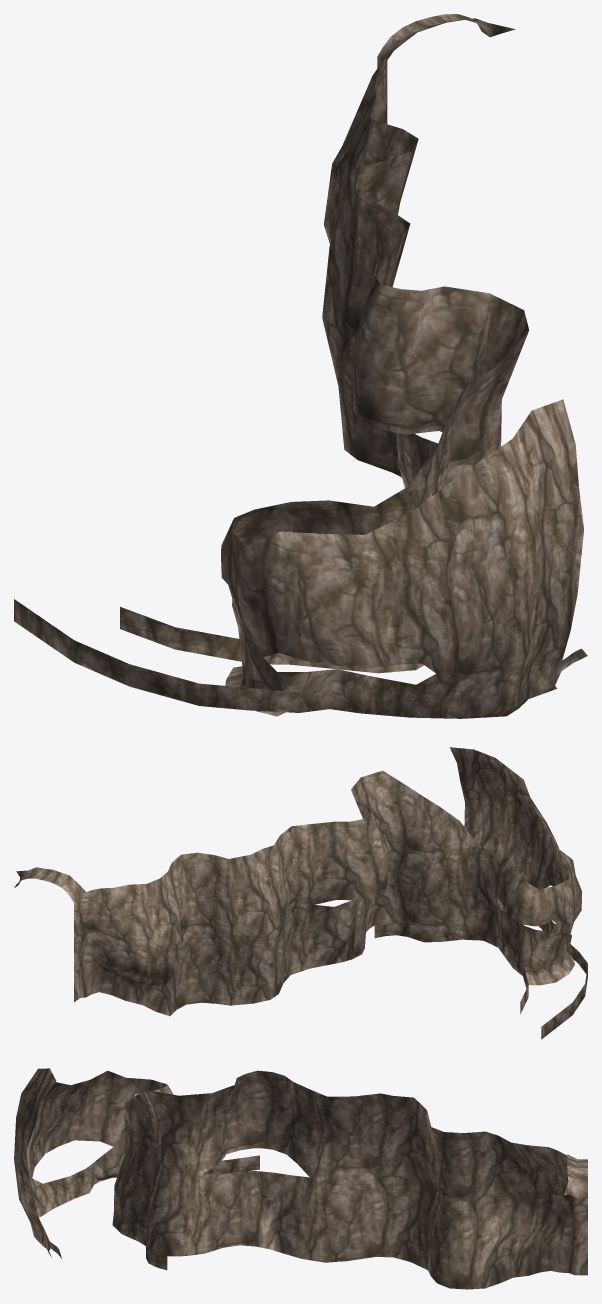
File: EKH_THRONE_PS_TH_RT_WALL_47.fbx
The picture shows the model from 3 angles, top to bottom: view 1: azimuth 30°, elevation 25°; view 2: azimuth 150°, elevation 25°; view 3: azimuth 270°, elevation 25°; orthographic projection. The views are drawn at different scales.
Parts seen in each view (by area): view 1: EKH_THRONE_PS_TH_RT_WALL_47; view 2: EKH_THRONE_PS_TH_RT_WALL_47; view 3: EKH_THRONE_PS_TH_RT_WALL_47.
Boxes of the visible parts, box(x1,y1,x2,y2) form: EKH_THRONE_PS_TH_RT_WALL_47: box(14, 14, 587, 718); EKH_THRONE_PS_TH_RT_WALL_47: box(14, 747, 587, 1039); EKH_THRONE_PS_TH_RT_WALL_47: box(14, 1068, 587, 1289).
Size of the model in its own units: 294226 by 120952 by 326101.
1 material, 1 textured.
